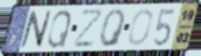5: (151, 7, 178, 48)
N: (18, 10, 53, 50)
O: (126, 8, 155, 47)
Q: (98, 7, 127, 49), (46, 8, 73, 50)
Z: (72, 8, 106, 49)
